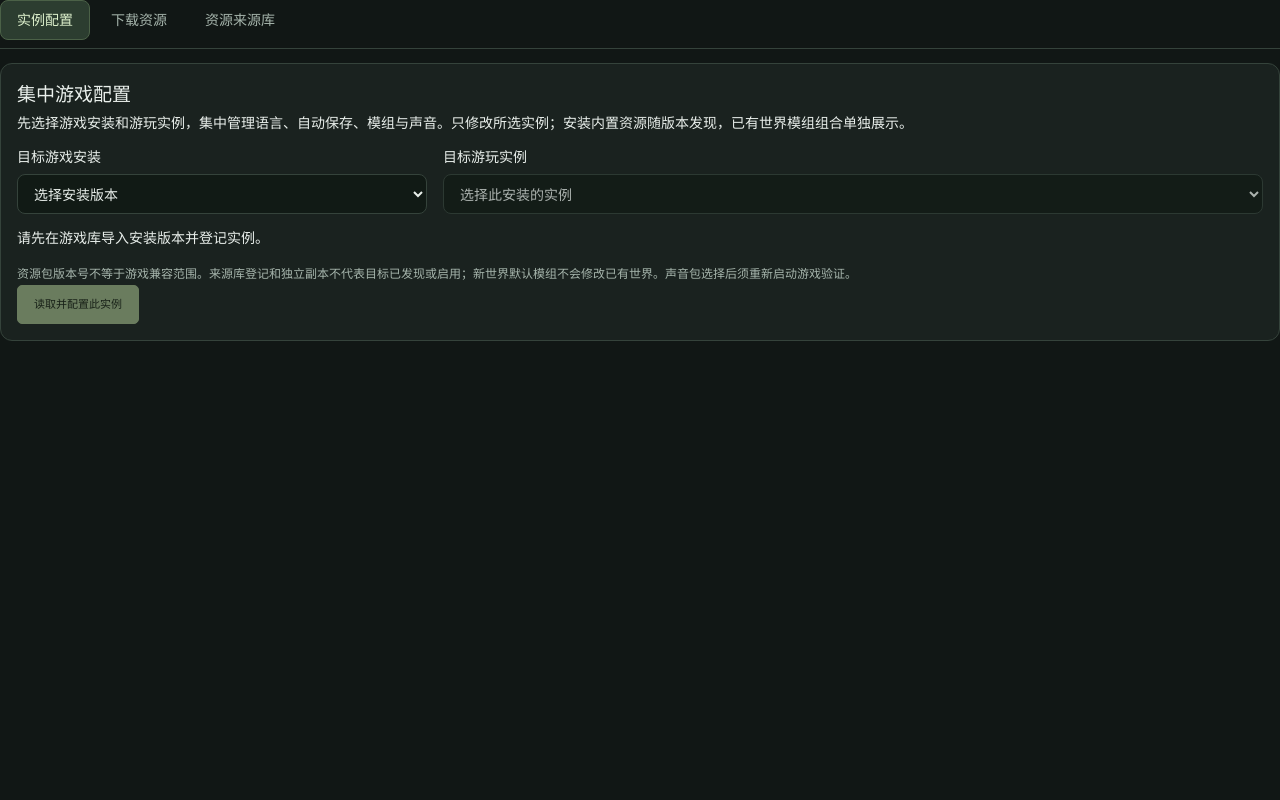
Scenario: combines resource search with type filtering without changing registrations
This screenshot has width=1280, height=800.
Step 1. Click the tab "资源来源库" → (240, 20), box [188,0,292,40]
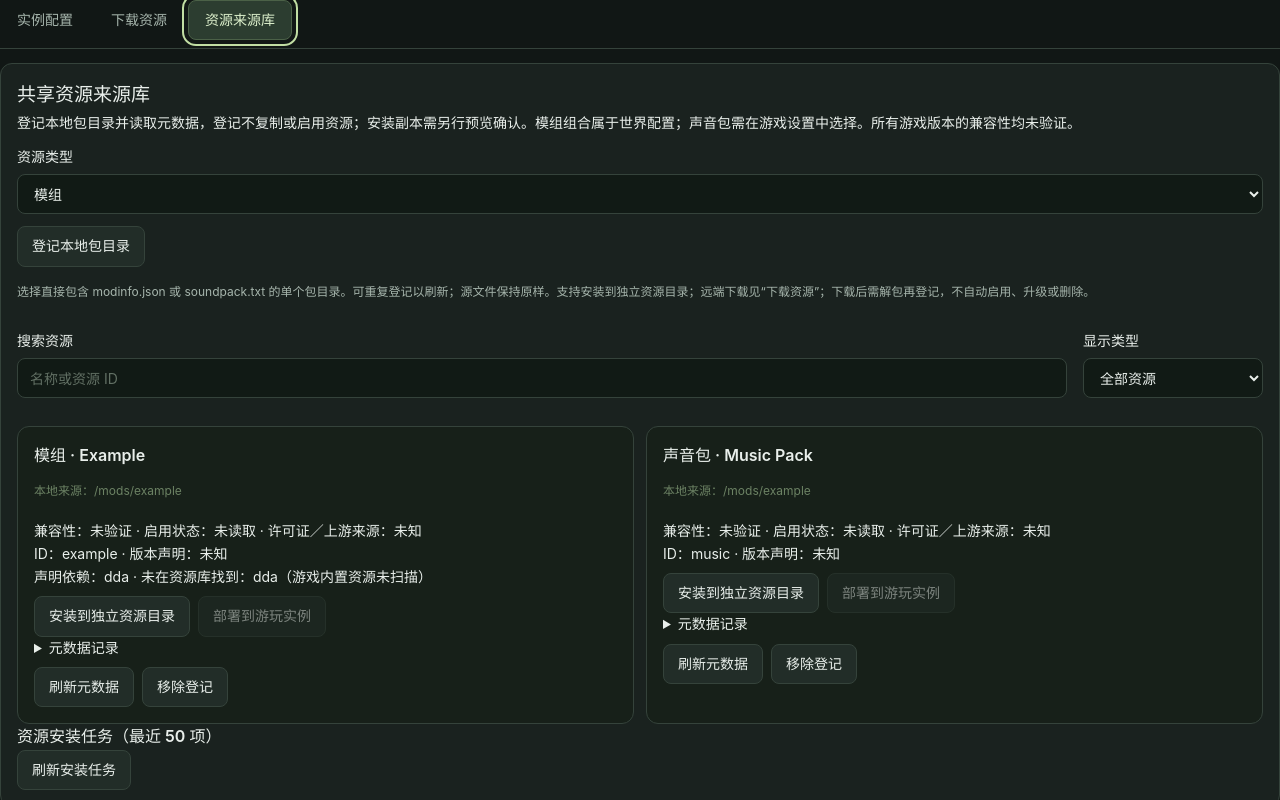
Expected: the heading "模组 · Example" is shown, [34,445,145,465]
Step 2. Type "music" into the search field labelled "搜索资源" → (542, 378), box [17,358,1067,398]
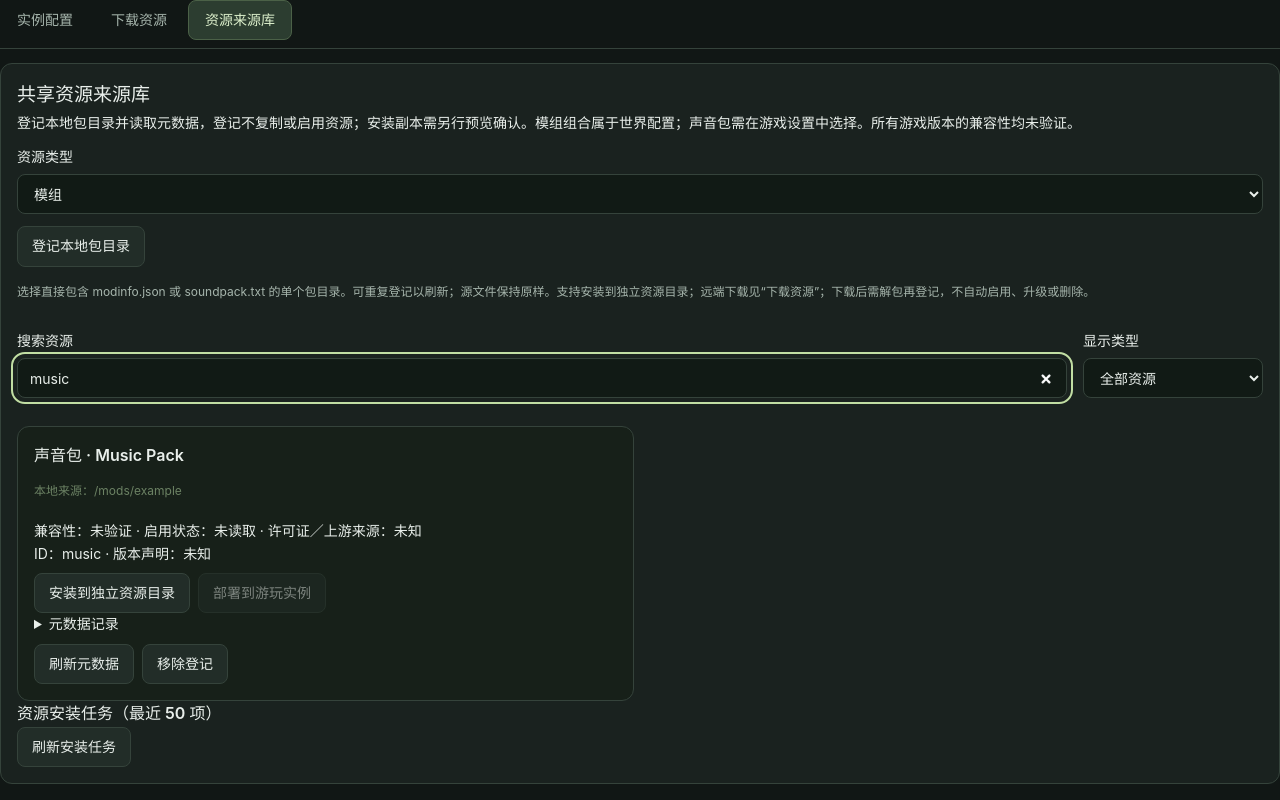
Expected: the heading "声音包 · Music Pack" is shown, [34,445,184,465]
Expected: the heading "模组 · Example" is gone
Step 3. Select "模组" in the dropdown labelled "显示类型" → (1173, 378), box [1083,358,1263,398]
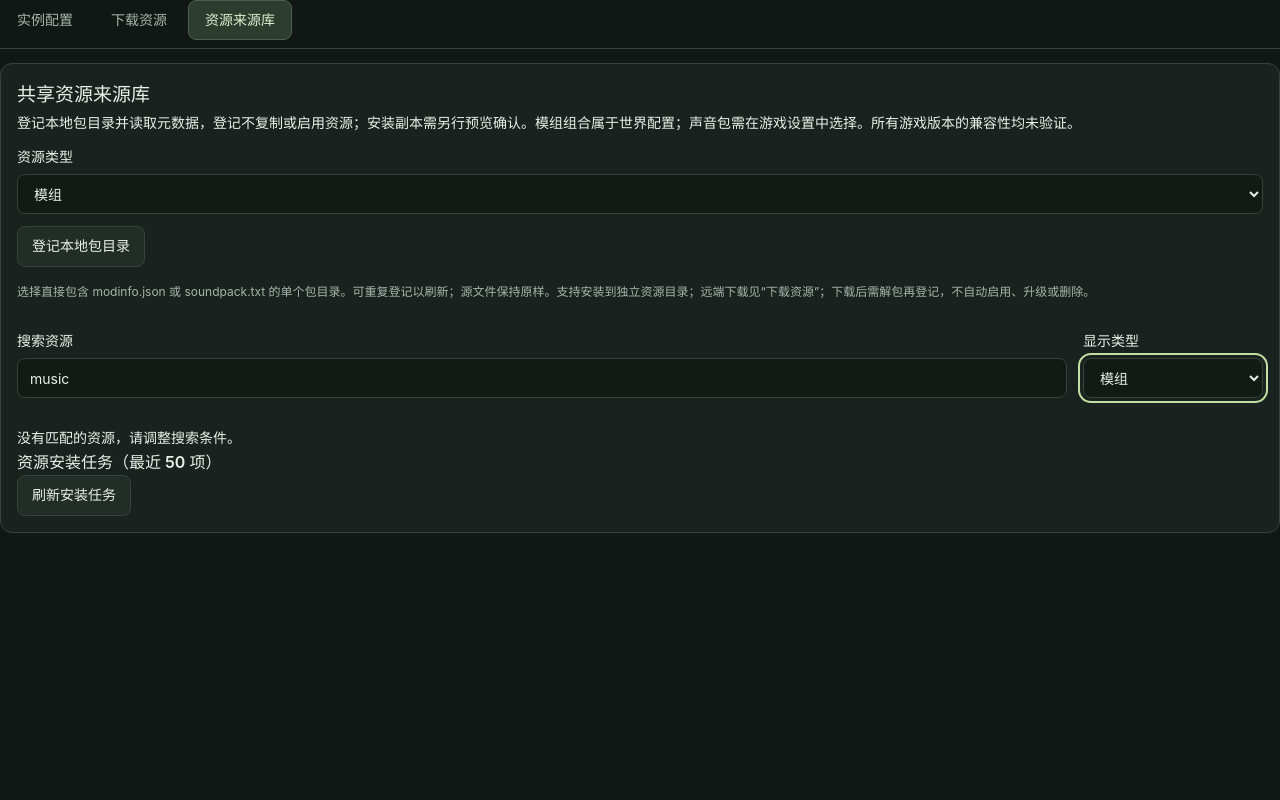
Expected: the text "没有匹配的资源，请调整搜索条件。" is shown, [17,429,241,446]
Step 4. Clear the search field labelled "搜索资源" → (542, 378), box [17,358,1067,398]
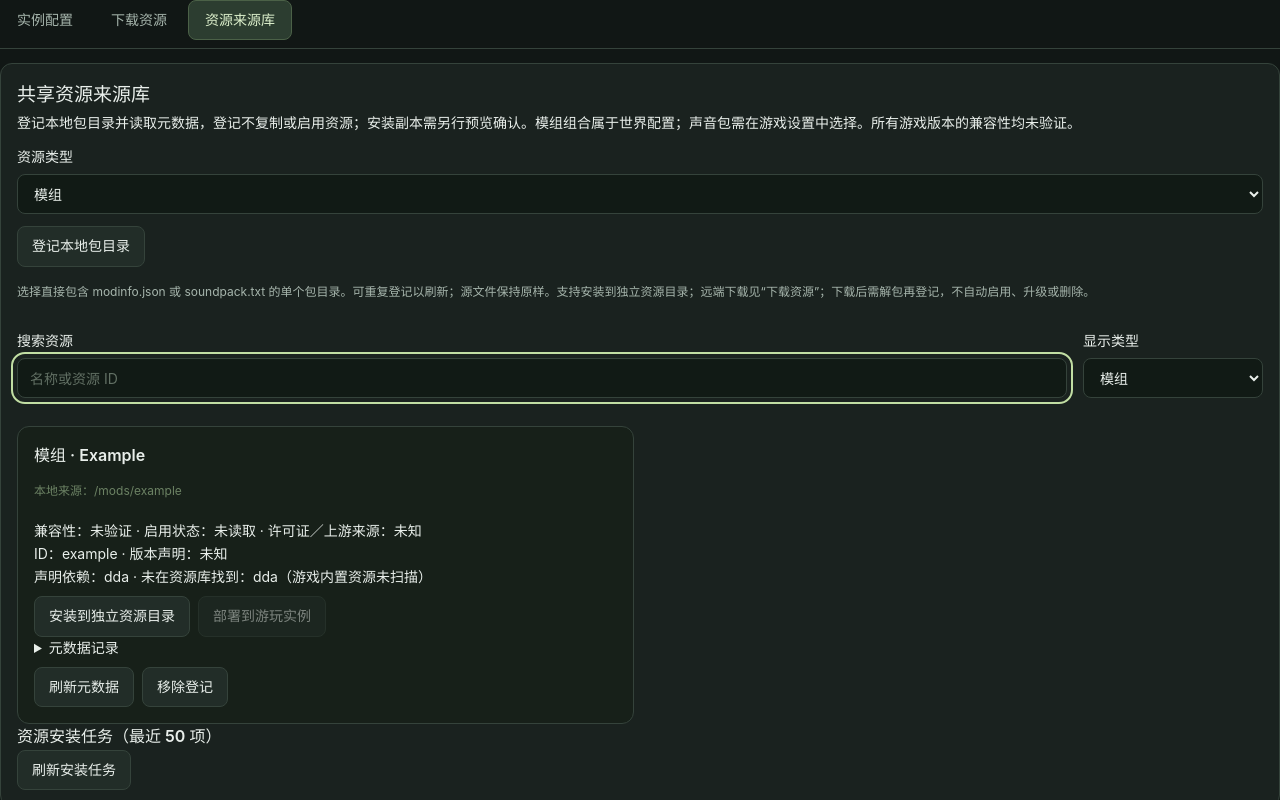
Expected: the heading "模组 · Example" is shown, [34,445,145,465]
